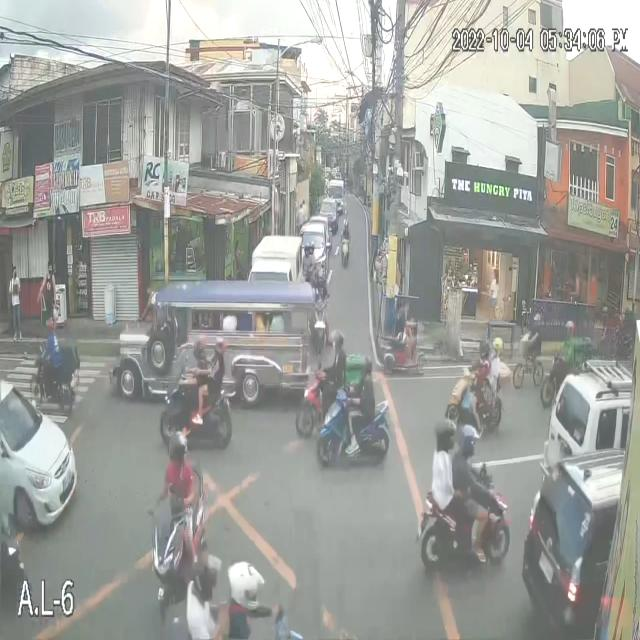Full-Faced: (228, 560, 259, 606), (162, 431, 188, 466), (436, 413, 454, 450), (327, 329, 343, 355), (358, 352, 372, 378), (42, 317, 57, 341), (192, 333, 207, 357), (563, 317, 577, 340), (491, 338, 503, 361), (478, 338, 490, 359), (214, 336, 227, 355), (304, 242, 312, 258)
Half-Faced: (192, 553, 222, 601)
